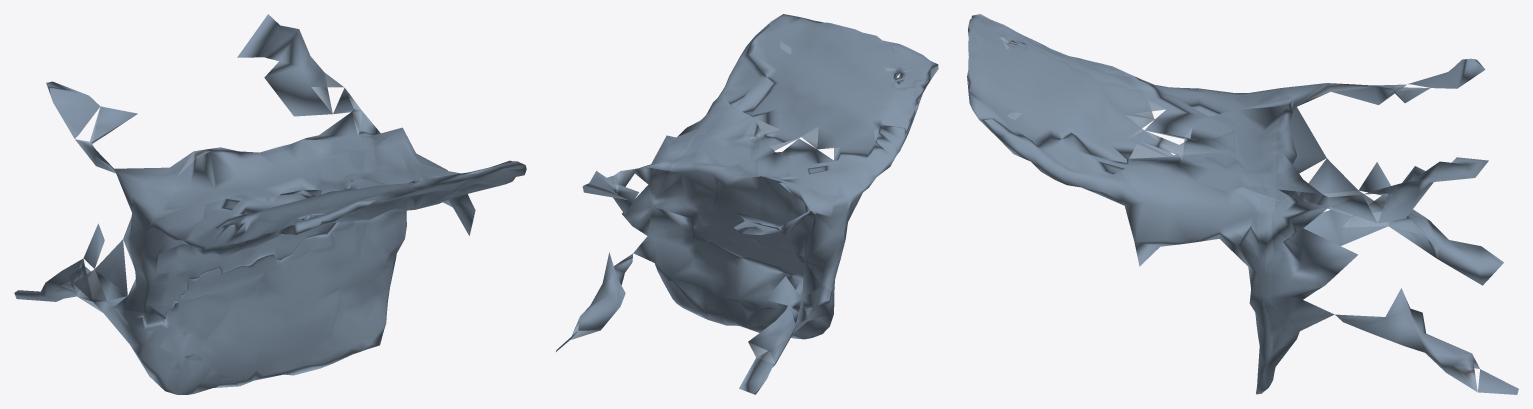
The model's file is sample_276_recon.obj.
3 views of the same model, side by side, from view 1: azimuth 30°, elevation 25°; view 2: azimuth 150°, elevation 25°; view 3: azimuth 270°, elevation 25° (orthographic). The views are drawn at different scales.
Bounding box in the file's own units: 0.7887 × 0.8355 × 1.38.
